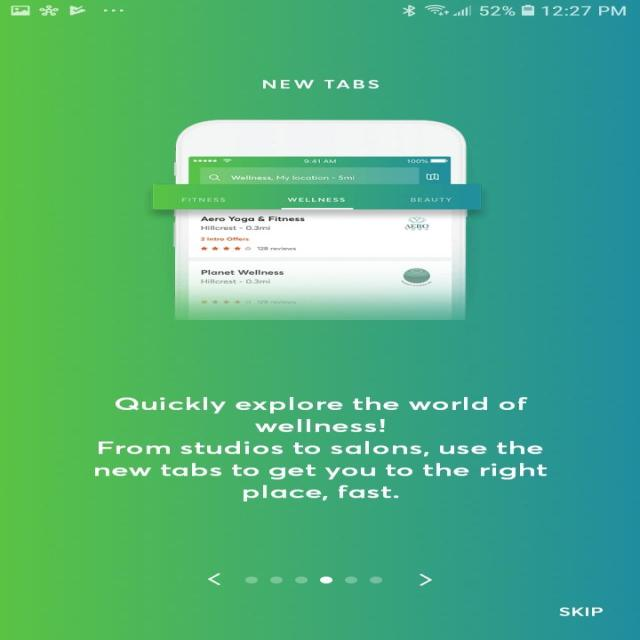Icon: (206, 572, 222, 585), (418, 573, 432, 586)
Image: (151, 119, 482, 320)
Text: (94, 396, 547, 502), (261, 80, 379, 89), (558, 607, 603, 616)
